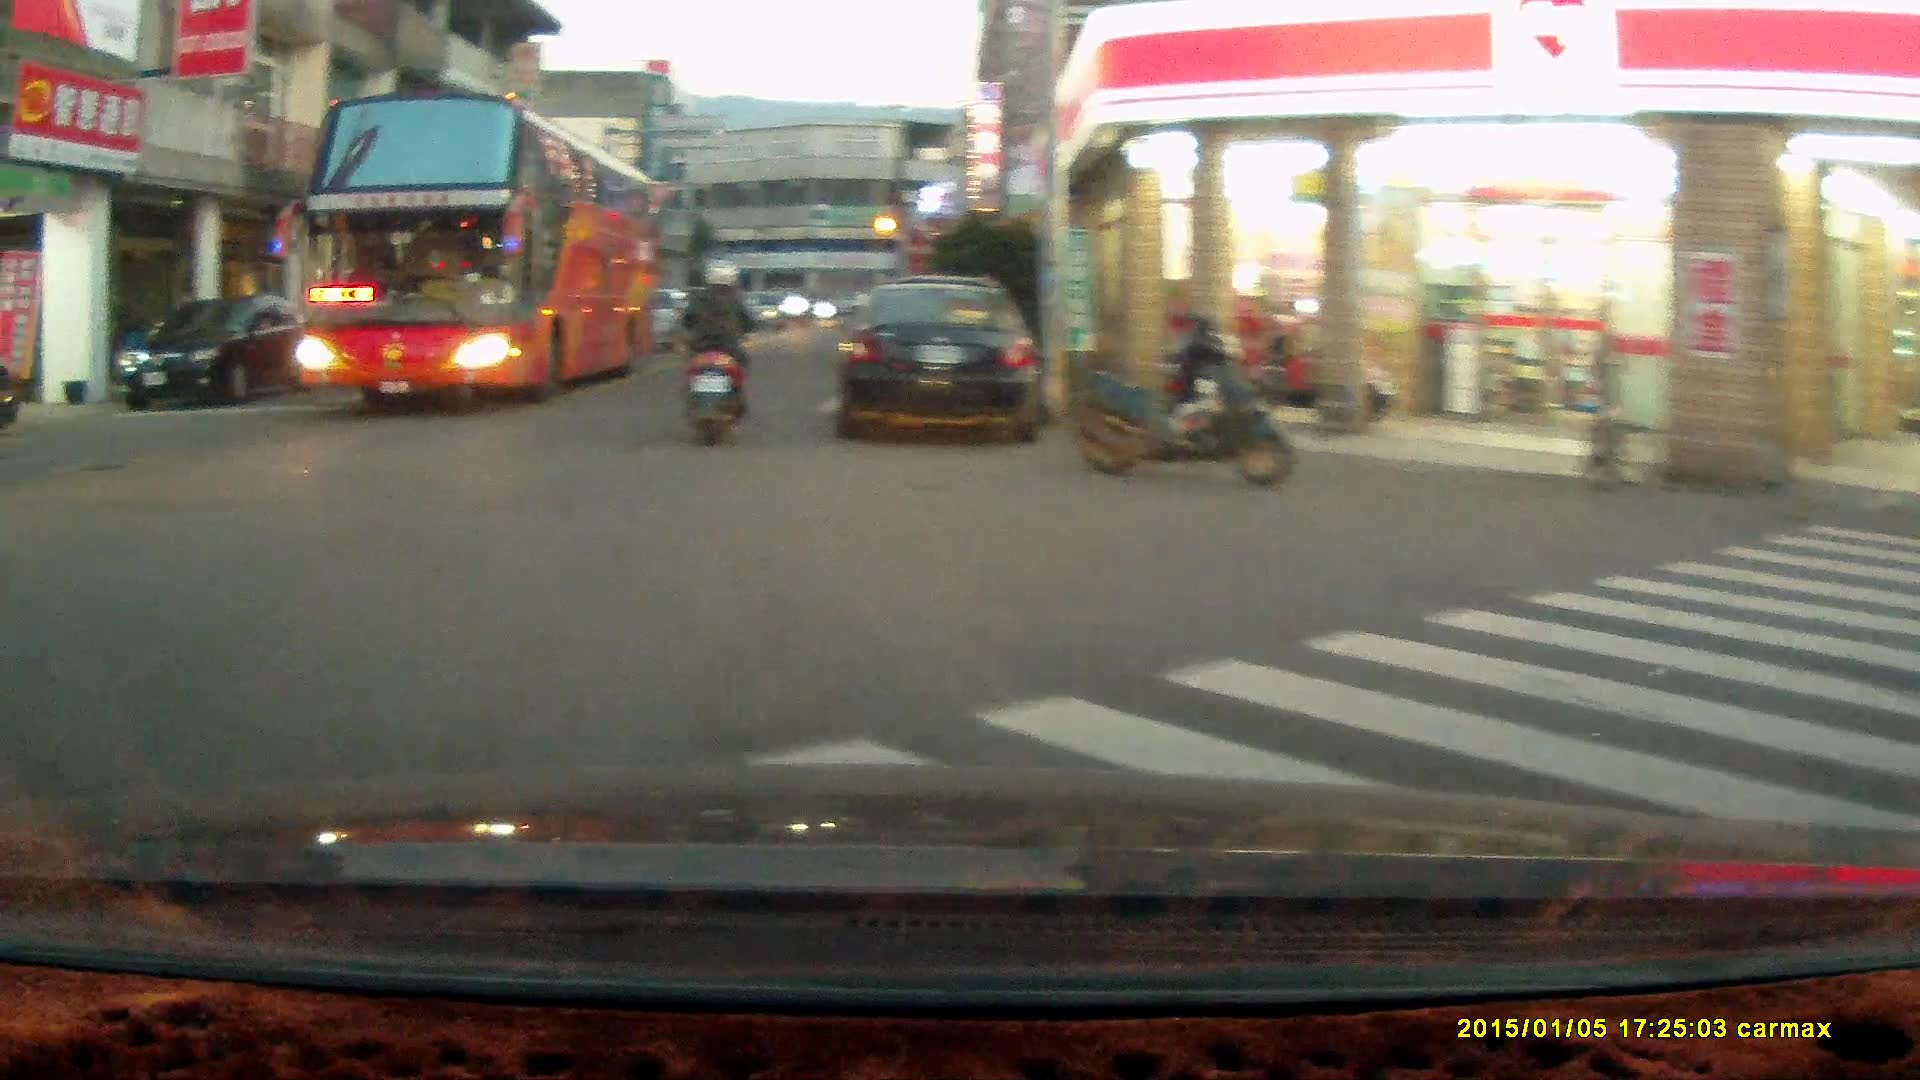rider: (665, 263, 751, 456)
vehicle: (288, 98, 662, 416), (829, 276, 1045, 442), (114, 294, 320, 407)
